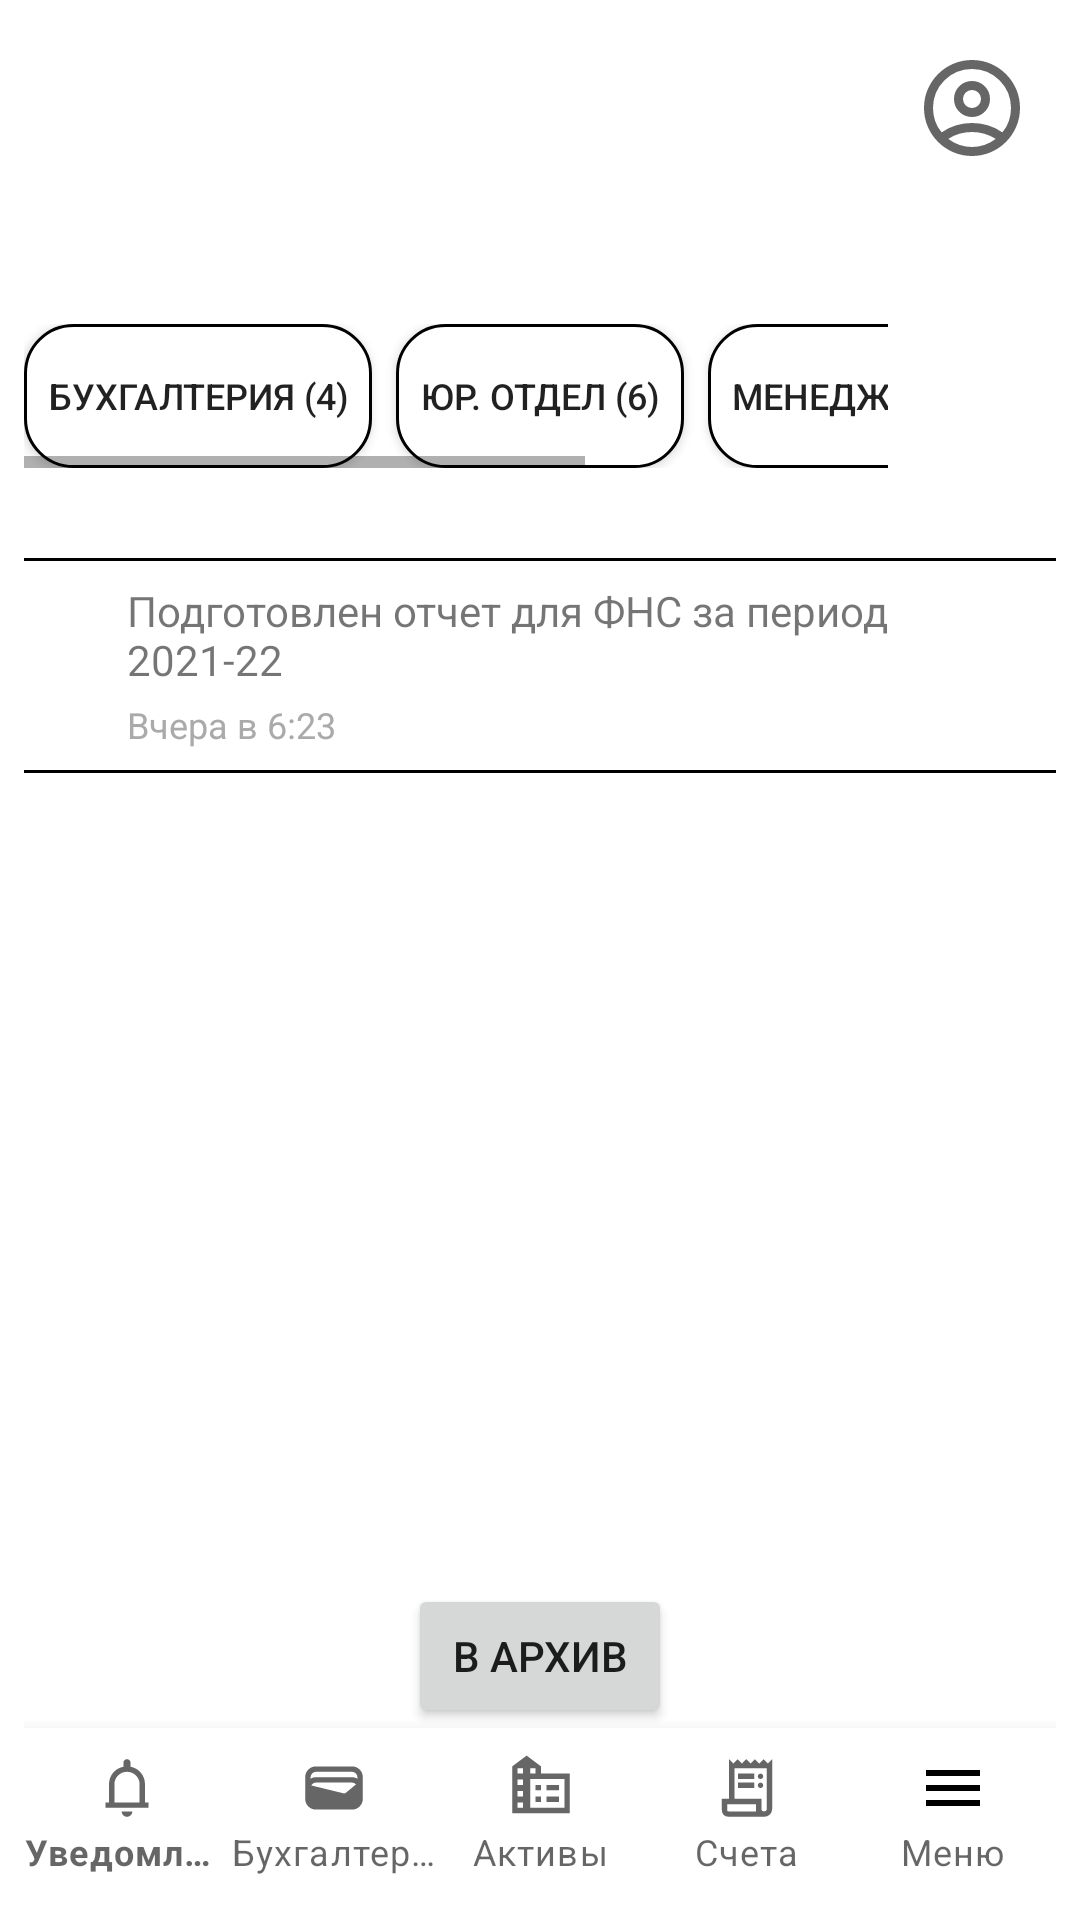

Icon bounding boxes for this 1080×1920 phone screenshot, format {"x1": x1, "y1": y1, "x2": x2, "y2": y2}:
Профиль: {"x1": 924, "y1": 60, "x2": 1020, "y2": 156}
